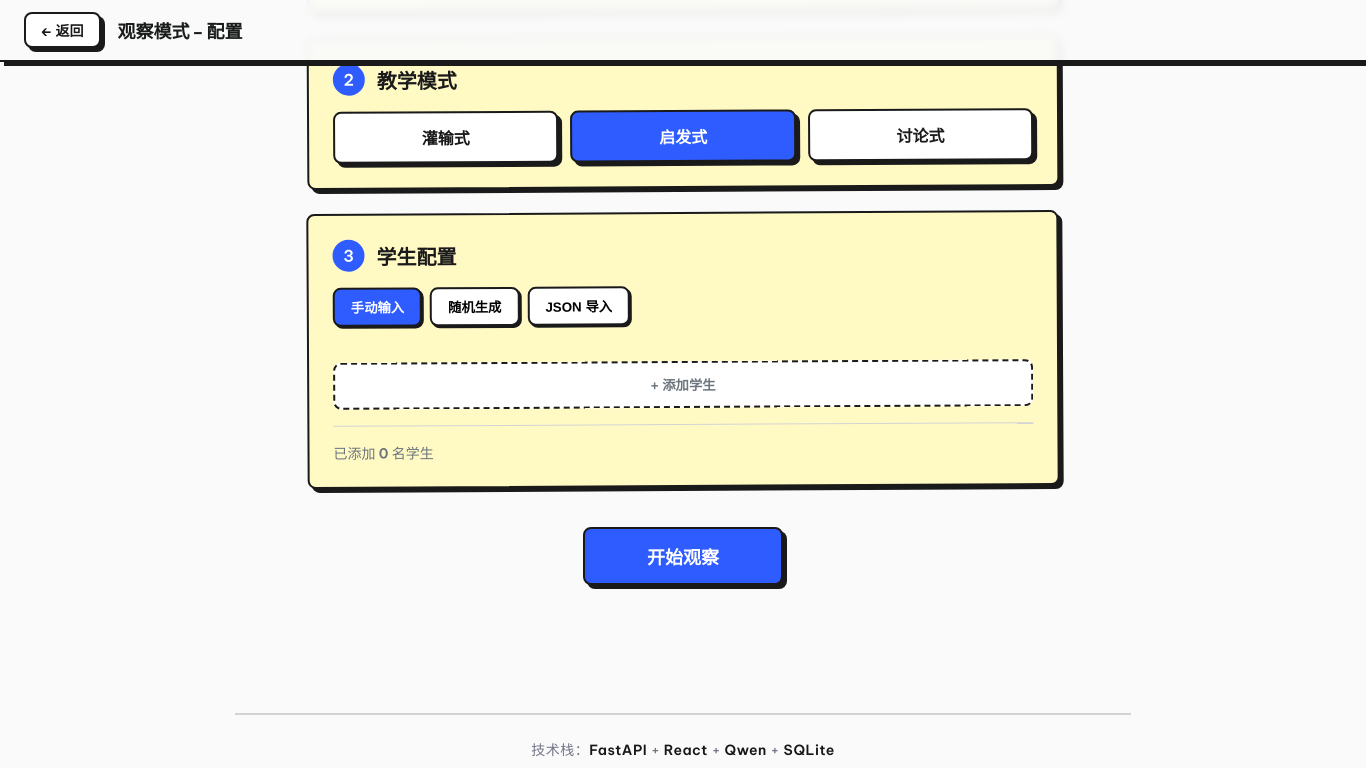
Test: ObservationConfig › Manual student creation › shows manual form when clicking add student button
This screenshot has width=1366, height=768.
(page scrolled)
Click the button "+ 添加学生" at (683, 385), box [333,359,1033,410]
(page scrolled)
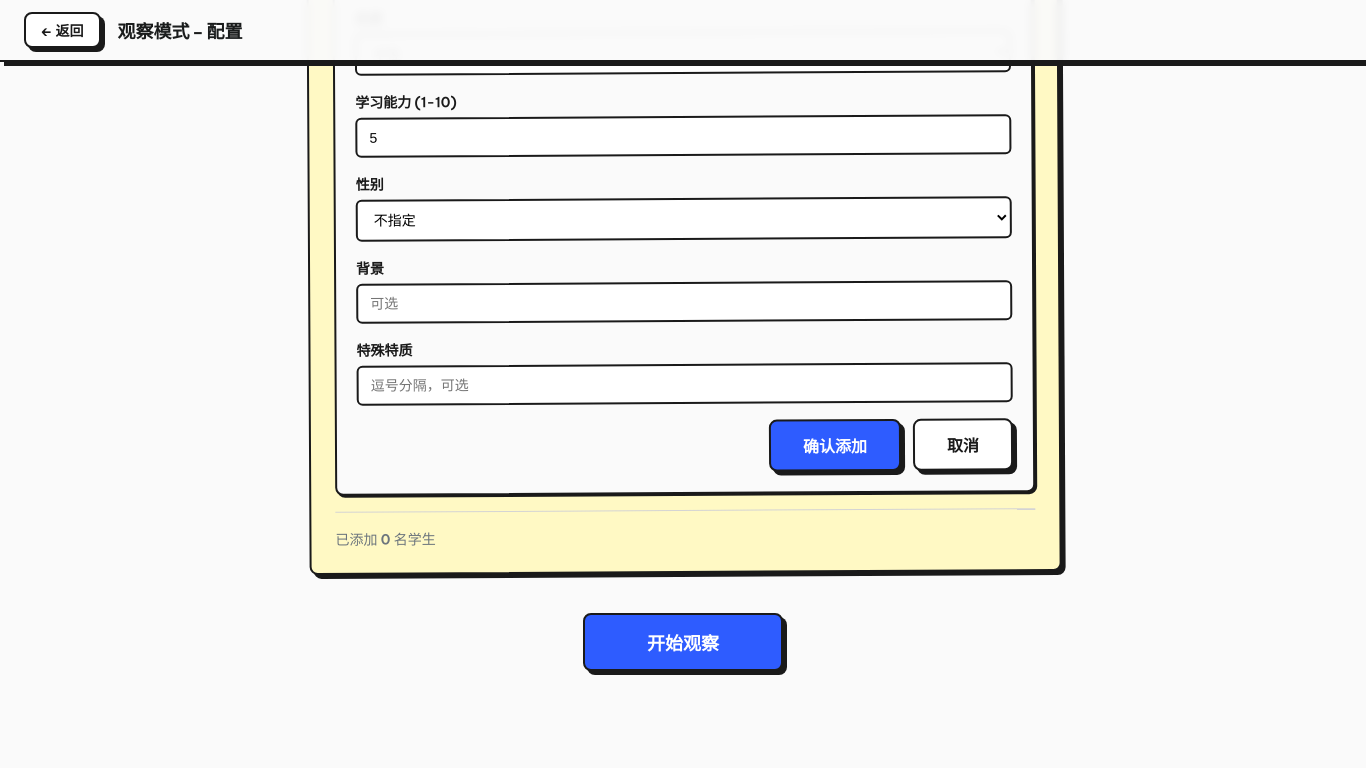
expect the dropdown labelled "态度" is shown: met, box [355,30,1011,76]
expect the number field labelled "学习能力 (1-10)" is shown: met, box [355,114,1012,158]
expect the dropdown labelled "性别" is shown: met, box [356,196,1012,242]
